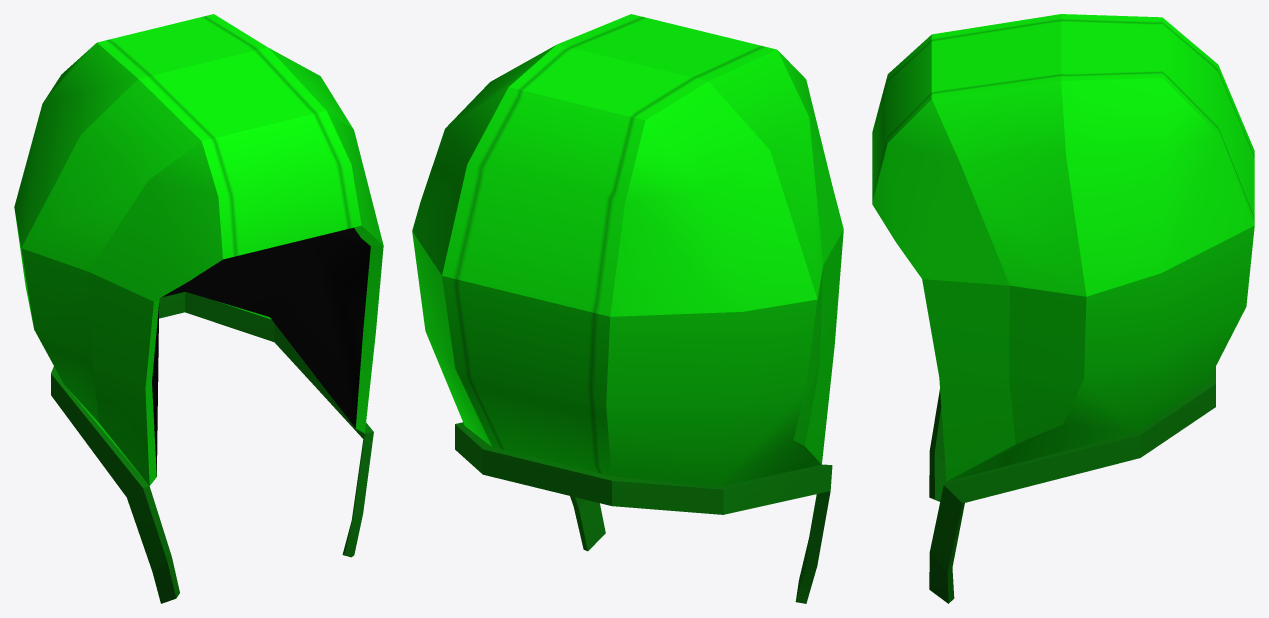
The picture shows the model from 3 angles, left to right: view 1: azimuth 30°, elevation 25°; view 2: azimuth 150°, elevation 25°; view 3: azimuth 270°, elevation 25°; orthographic projection. The views are drawn at different scales.
Parts seen in each view (by area): view 1: LeatherCoif_M; view 2: LeatherCoif_M; view 3: LeatherCoif_M.
Part boxes in pixels (x1,y1,x2,y2): LeatherCoif_M: [14, 14, 383, 603]; LeatherCoif_M: [412, 14, 843, 603]; LeatherCoif_M: [872, 14, 1254, 603].
Bounding box in the file's own units: 0.2417 × 0.3253 × 0.2224.
Materials: 1 (1 with a texture image).
